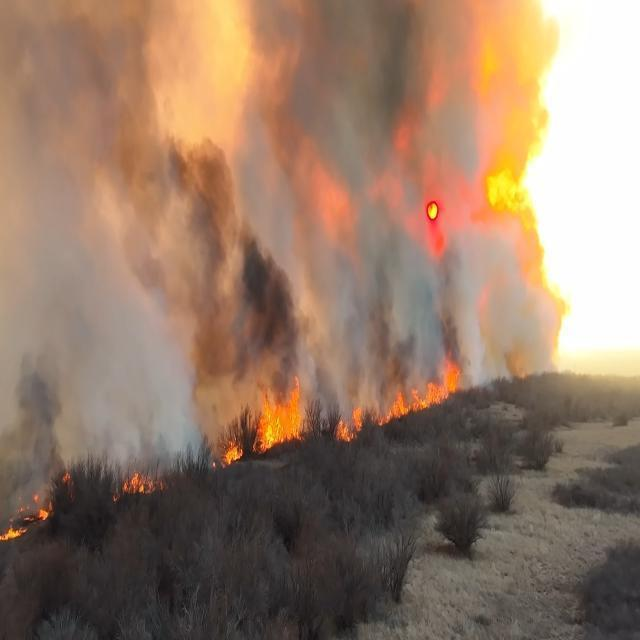Fire: (389, 366, 460, 427), (255, 393, 305, 440)
Smoke: (236, 0, 406, 375), (122, 109, 303, 390), (0, 344, 66, 489)
